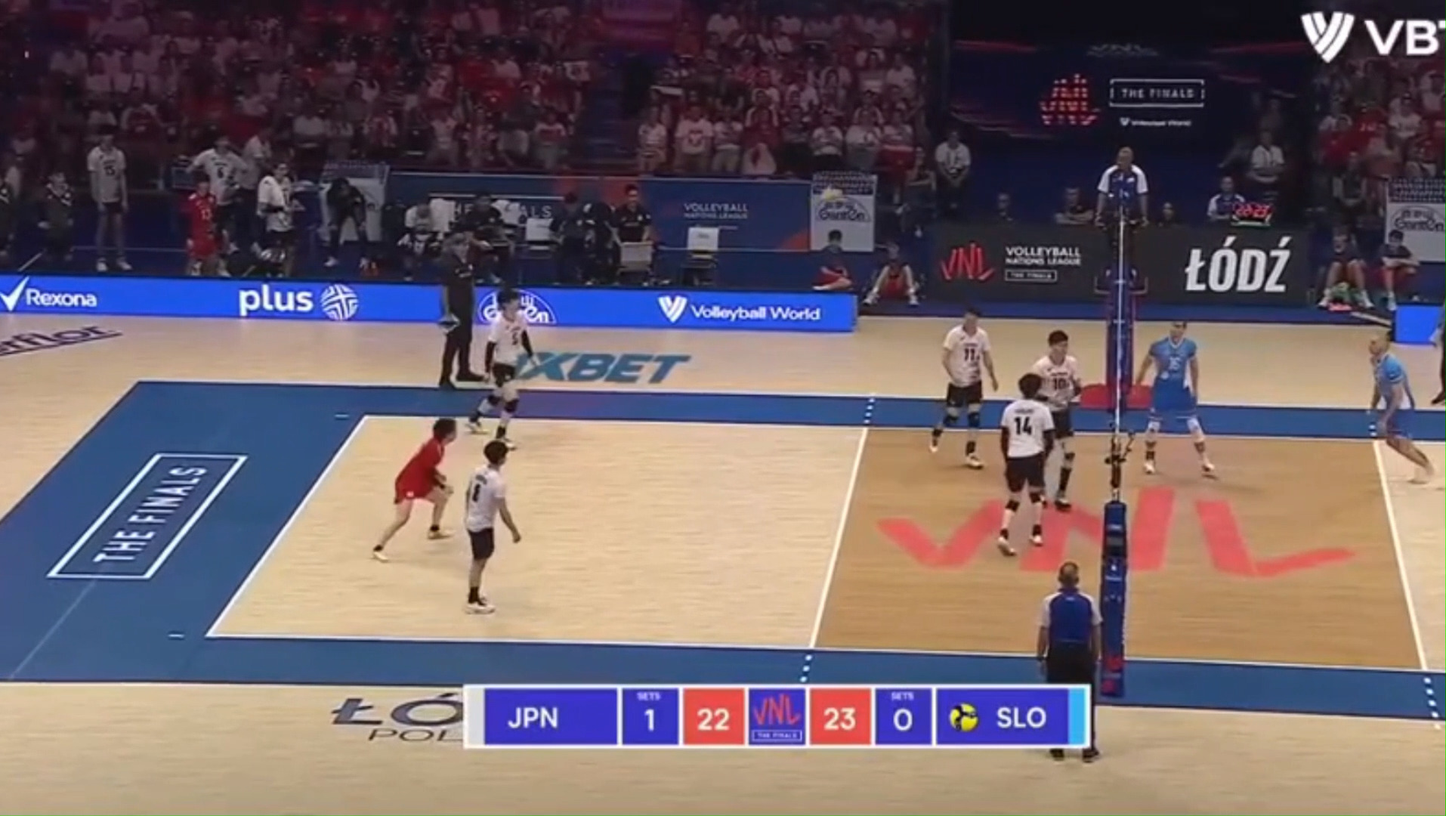ball: (821, 187, 843, 200)
player: (1137, 321, 1214, 477), (1368, 334, 1433, 483)
player 1: (372, 418, 456, 560), (929, 309, 997, 469), (996, 373, 1054, 555), (469, 290, 533, 447), (464, 439, 521, 614), (1030, 330, 1082, 509)
referee: (1036, 561, 1101, 713), (1095, 147, 1148, 293), (438, 234, 483, 389), (1433, 304, 1445, 403)
